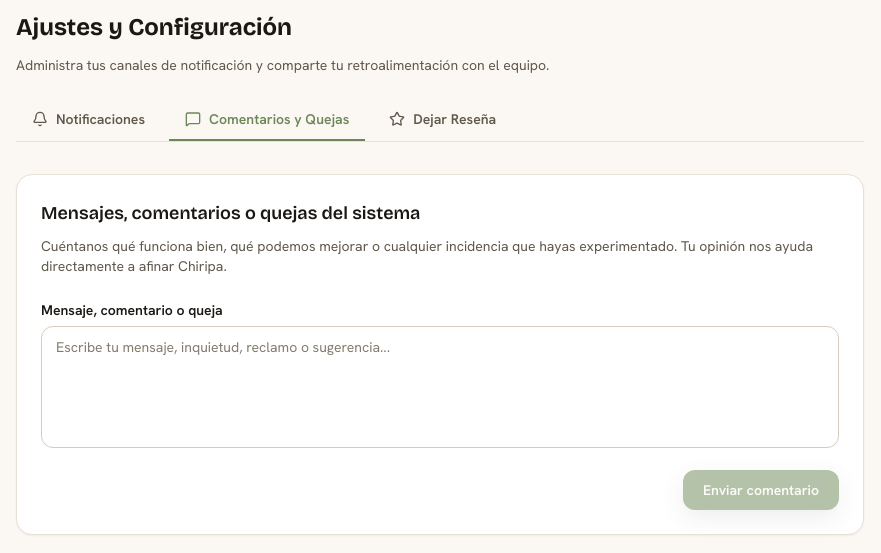
Test case: SettingsHub (HU-24, S6/S7) › permite enviar un mensaje, comentario o queja (S6)
Type "El sistema carga muy rápido." into the text box labelled "Mensaje, comentario o queja" at [440, 387], box [41,326,839,448]
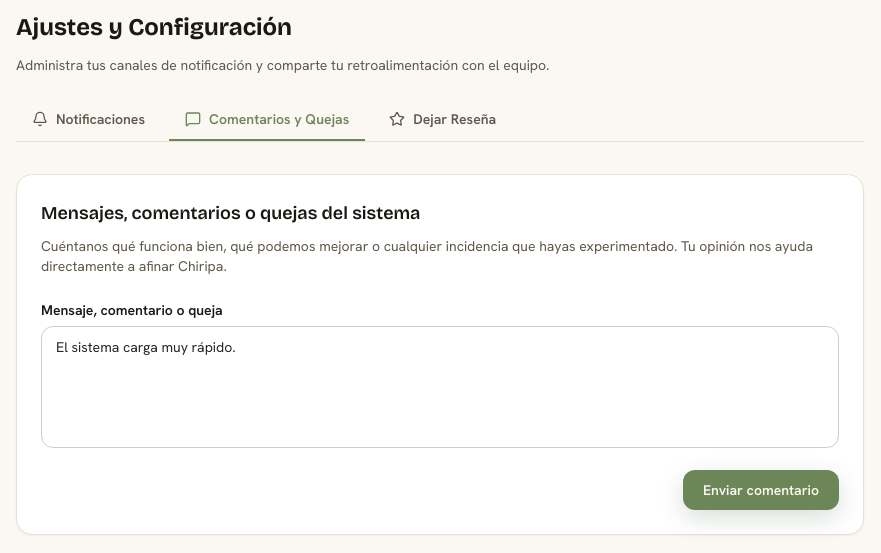
Click the button "Enviar comentario" at [761, 490], box [683,470,839,510]
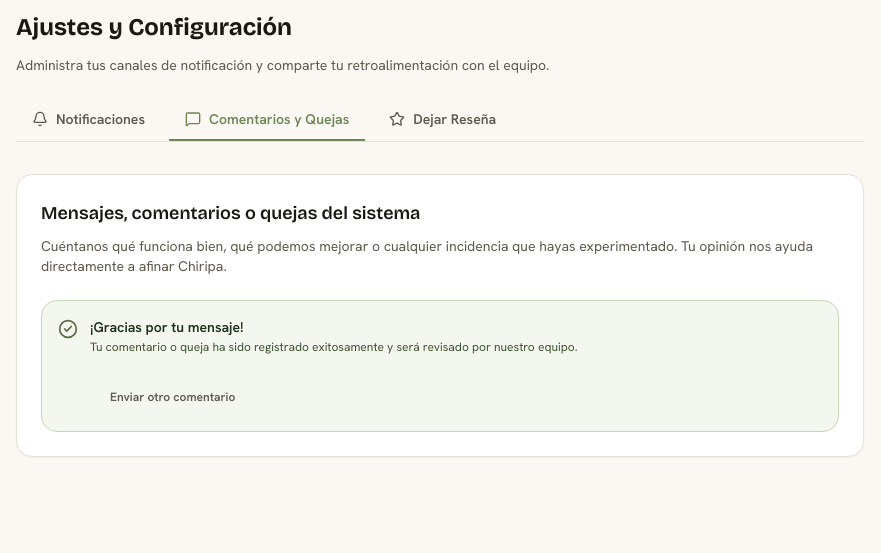
Result: the text "¡Gracias por tu mensaje!" is shown at [90,318,244,336]
